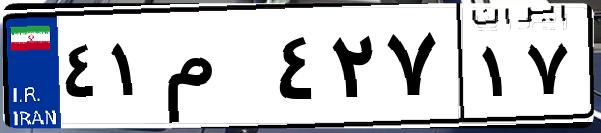1: (475, 38, 525, 113), (110, 28, 158, 98)
2: (330, 28, 385, 110)
4: (270, 28, 330, 110), (57, 26, 110, 100)
7: (385, 28, 445, 110), (525, 38, 570, 115)
م: (158, 20, 270, 120)
